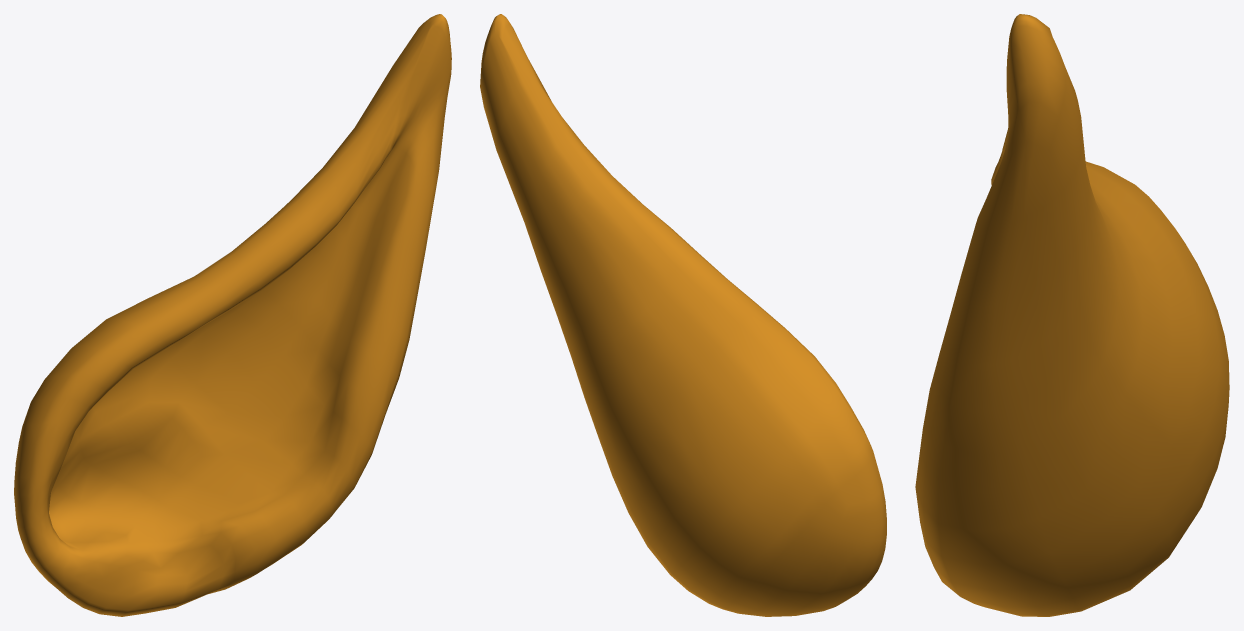
File: FAIRY EAR.glb
3 views of the same model, side by side, from view 1: azimuth 30°, elevation 25°; view 2: azimuth 150°, elevation 25°; view 3: azimuth 270°, elevation 25° (orthographic). The views are drawn at different scales.
Parts seen in each view (by area): view 1: node_id45; view 2: node_id45; view 3: node_id45.
Part boxes in pixels (<box>): node_id45: <box>14,14,451,616</box>; node_id45: <box>480,14,886,616</box>; node_id45: <box>915,14,1229,616</box>.
Size of the model in its own units: 0.4103 by 0.4979 by 0.1824.
1 material, 1 textured.
